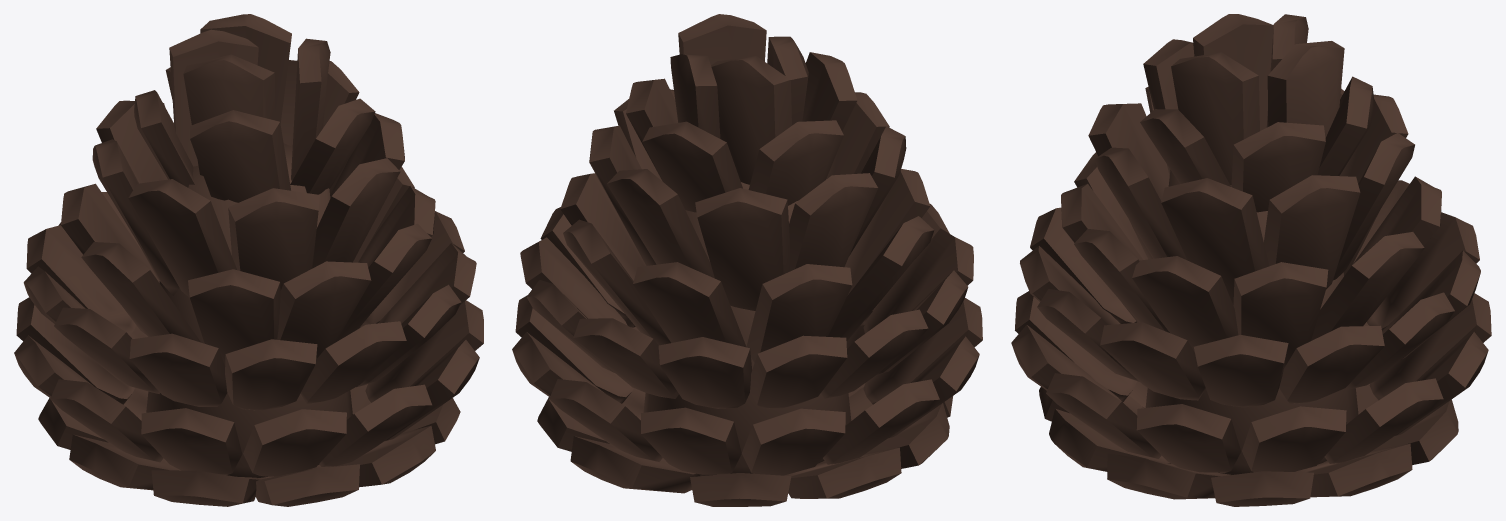
The model's file is PineCone_02.fbx.
The picture shows the model from 3 angles, left to right: view 1: azimuth 30°, elevation 25°; view 2: azimuth 150°, elevation 25°; view 3: azimuth 270°, elevation 25°; orthographic projection. The views are drawn at different scales.
Visible parts, largest first — view 1: PineCone_02; view 2: PineCone_02; view 3: PineCone_02.
Part boxes in pixels (box(x1,y1,x2,y2)): PineCone_02: box(14, 14, 483, 506); PineCone_02: box(512, 14, 982, 506); PineCone_02: box(1011, 14, 1491, 506).
Size of the model in its own units: 0.1249 by 0.1225 by 0.125.
